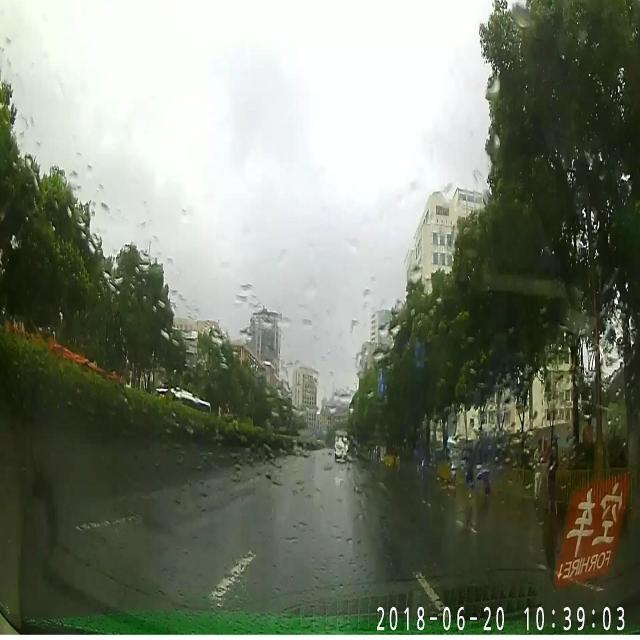car: (333, 432, 351, 462)
